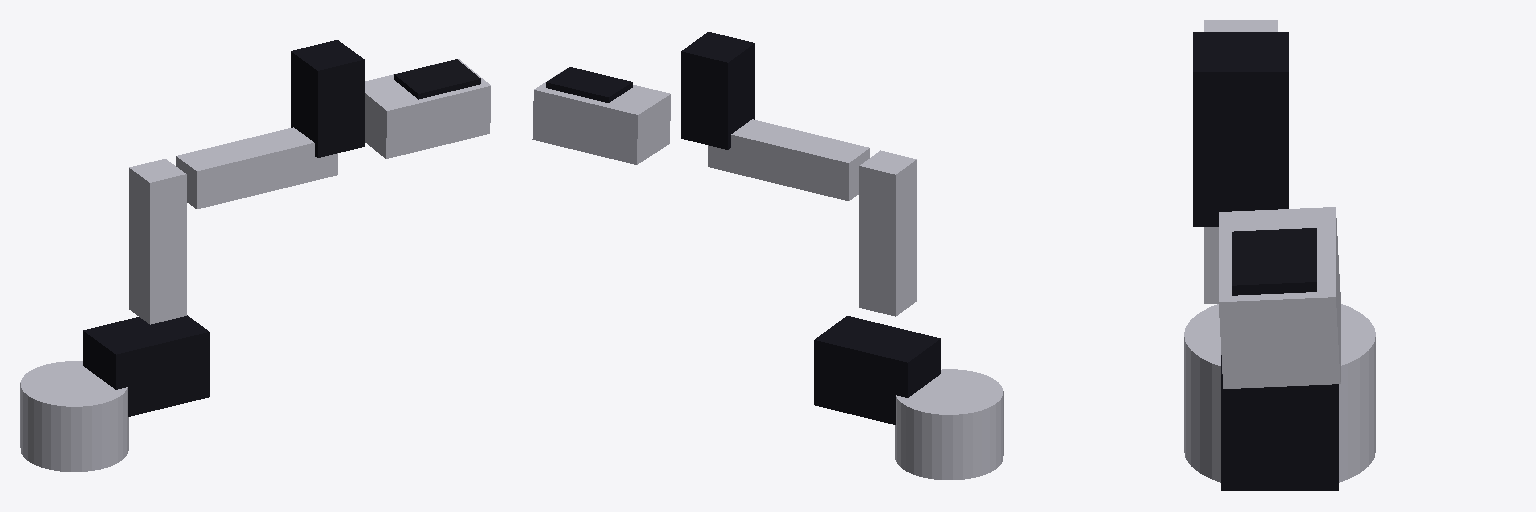
robot.urdf — so101_motion_sdk:
<?xml version="1.0"?>
<robot name="so101_motion_sdk">
  <material name="body"><color rgba="0.78 0.78 0.82 1"/></material>
  <material name="joint"><color rgba="0.12 0.12 0.15 1"/></material>
  <link name="base_link">
    <inertial><origin xyz="0 0 0.03"/><mass value="0.147"/><inertia ixx="0.00012" ixy="0" ixz="0" iyy="0.00014" iyz="0" izz="0.00013"/></inertial>
    <visual><origin xyz="0 0 0.03"/><geometry><cylinder radius="0.045" length="0.06"/></geometry><material name="body"/></visual>
  </link>
  <link name="shoulder_link"><inertial><mass value="0.10"/><inertia ixx="0.00008" ixy="0" ixz="0" iyy="0.00008" iyz="0" izz="0.00003"/></inertial><visual><origin xyz="-0.03 0 0"/><geometry><box size="0.09 0.055 0.06"/></geometry><material name="joint"/></visual></link>
  <joint name="shoulder_pan" type="revolute"><origin xyz="0.0388353 -0.000000009 0.0624" rpy="3.14159265 0 -3.14159265"/><parent link="base_link"/><child link="shoulder_link"/><axis xyz="0 0 1"/><limit lower="-1.91986" upper="1.91986" effort="10" velocity="2"/></joint>
  <link name="upper_arm_link"><inertial><mass value="0.103"/><inertia ixx="0.00004" ixy="0" ixz="0" iyy="0.00015" iyz="0" izz="0.00014"/></inertial><visual><origin xyz="-0.065 0 0"/><geometry><box size="0.13 0.035 0.035"/></geometry><material name="body"/></visual></link>
  <joint name="shoulder_lift" type="revolute"><origin xyz="-0.0303992 -0.0182778 -0.0542" rpy="-1.57079633 -1.57079633 0"/><parent link="shoulder_link"/><child link="upper_arm_link"/><axis xyz="0 0 1"/><limit lower="-1.74533" upper="1.74533" effort="10" velocity="2"/></joint>
  <link name="lower_arm_link"><inertial><mass value="0.104"/><inertia ixx="0.00003" ixy="0" ixz="0" iyy="0.00016" iyz="0" izz="0.00015"/></inertial><visual><origin xyz="-0.067 0 0"/><geometry><box size="0.135 0.035 0.035"/></geometry><material name="body"/></visual></link>
  <joint name="elbow_flex" type="revolute"><origin xyz="-0.11257 -0.028 0" rpy="0 0 1.57079633"/><parent link="upper_arm_link"/><child link="lower_arm_link"/><axis xyz="0 0 1"/><limit lower="-1.69" upper="1.69" effort="10" velocity="2"/></joint>
  <link name="wrist_link"><inertial><mass value="0.079"/><inertia ixx="0.00004" ixy="0" ixz="0" iyy="0.00003" iyz="0" izz="0.00002"/></inertial><visual><origin xyz="-0.04 0 0"/><geometry><box size="0.08 0.045 0.045"/></geometry><material name="joint"/></visual></link>
  <joint name="wrist_flex" type="revolute"><origin xyz="-0.1349 0.0052 0" rpy="0 0 -1.57079633"/><parent link="lower_arm_link"/><child link="wrist_link"/><axis xyz="0 0 1"/><limit lower="-1.65806" upper="1.65806" effort="10" velocity="2"/></joint>
  <link name="gripper_link"><inertial><mass value="0.087"/><inertia ixx="0.00003" ixy="0" ixz="0" iyy="0.00004" iyz="0" izz="0.00003"/></inertial><visual><origin xyz="0 0 -0.04"/><geometry><box size="0.045 0.055 0.10"/></geometry><material name="body"/></visual></link>
  <joint name="wrist_roll" type="revolute"><origin xyz="0 -0.0611 0.0181" rpy="1.57079633 0.0486795 3.14159265"/><parent link="wrist_link"/><child link="gripper_link"/><axis xyz="0 0 1"/><limit lower="-2.74385" upper="2.84121" effort="10" velocity="3"/></joint>
  <link name="moving_jaw_link"><inertial><mass value="0.012"/><inertia ixx="0.000007" ixy="0" ixz="0" iyy="0.000002" iyz="0" izz="0.000005"/></inertial><visual><origin xyz="0 -0.03 0.02"/><geometry><box size="0.015 0.06 0.04"/></geometry><material name="joint"/></visual></link>
  <joint name="gripper" type="revolute"><origin xyz="0.0202 0.0188 -0.0234" rpy="1.57079633 0 0"/><parent link="gripper_link"/><child link="moving_jaw_link"/><axis xyz="0 0 1"/><limit lower="-0.174533" upper="1.74533" effort="10" velocity="10"/></joint>
  <link name="tcp_link"/>
  <joint name="tcp_joint" type="fixed"><origin xyz="-0.0079 -0.000218121 -0.0981274" rpy="0 3.14159265 0"/><parent link="gripper_link"/><child link="tcp_link"/></joint>
</robot>

--- Facts derived from the render (not from the file) ---
The picture shows the robot from 3 angles, left to right: view 1: azimuth 30°, elevation 25°; view 2: azimuth 150°, elevation 25°; view 3: azimuth 270°, elevation 25°; orthographic projection.
Robot: so101_motion_sdk — 8 links, 7 joints (6 revolute, 1 fixed); root link base_link; default pose: every joint at zero.
Visible links, largest first — view 1: base_link, shoulder_link, upper_arm_link, lower_arm_link, gripper_link, wrist_link, moving_jaw_link; view 2: base_link, shoulder_link, upper_arm_link, gripper_link, lower_arm_link, wrist_link, moving_jaw_link; view 3: wrist_link, gripper_link, shoulder_link, base_link, moving_jaw_link, upper_arm_link.
Link boxes in pixels (box(x1,y1,x2,y2)): base_link: box(20, 361, 128, 471); shoulder_link: box(83, 315, 209, 416); upper_arm_link: box(129, 159, 186, 324); lower_arm_link: box(176, 127, 337, 208); gripper_link: box(365, 59, 490, 158); wrist_link: box(291, 40, 364, 157); moving_jaw_link: box(394, 59, 480, 99); base_link: box(895, 369, 1003, 479); shoulder_link: box(814, 316, 940, 424); upper_arm_link: box(859, 150, 916, 316); gripper_link: box(532, 69, 670, 164); lower_arm_link: box(708, 119, 869, 200); wrist_link: box(681, 32, 754, 149); moving_jaw_link: box(546, 67, 632, 102); wrist_link: box(1193, 32, 1288, 226); gripper_link: box(1219, 207, 1340, 388); shoulder_link: box(1221, 355, 1338, 490); base_link: box(1184, 304, 1375, 482); moving_jaw_link: box(1232, 228, 1316, 295); upper_arm_link: box(1204, 20, 1277, 303).
Bounding box of the posed robot: 0.4282 × 0.09 × 0.3144 m (x, y, z).
Geometry: primitives only (box / cylinder / sphere), no mesh files.
